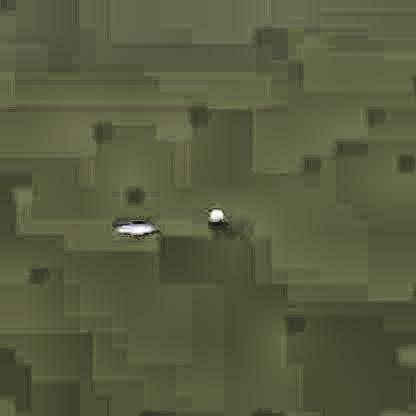golfball: (207, 206, 222, 222)
